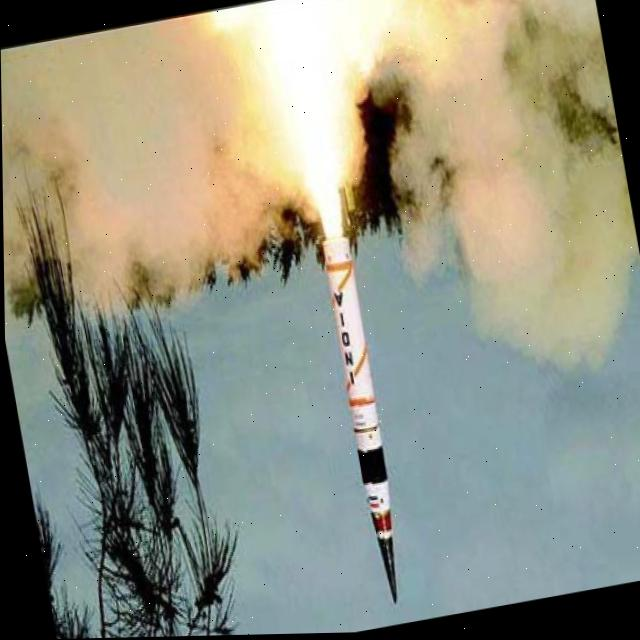missile: (311, 232, 418, 612)
